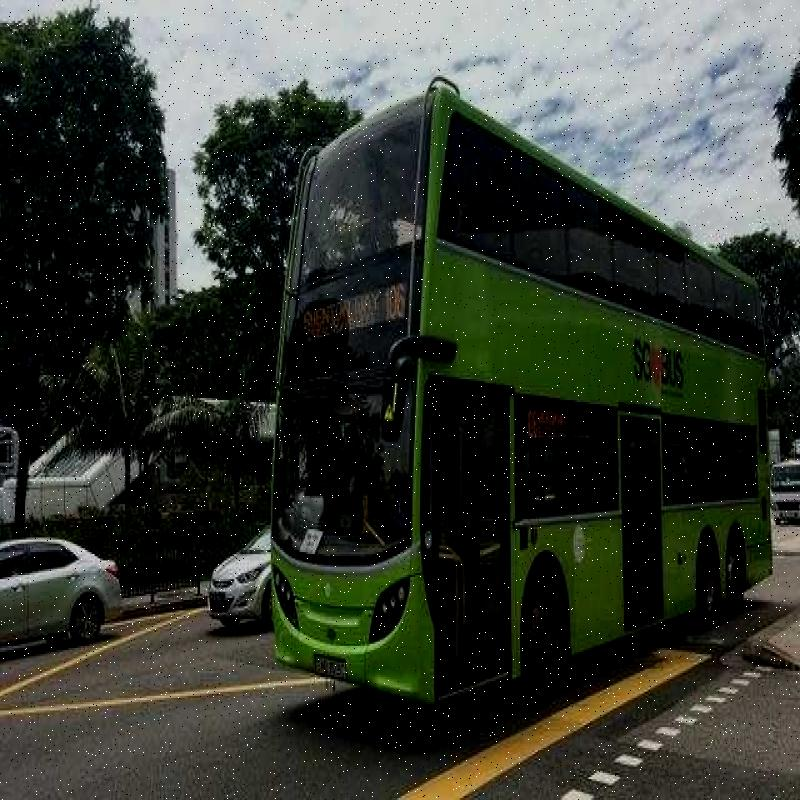bus: (244, 78, 800, 733)
